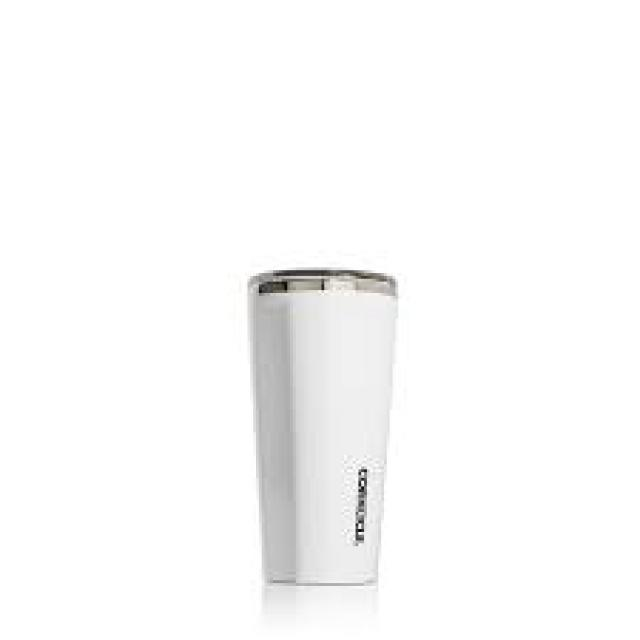bottle: (246, 265, 397, 588)
